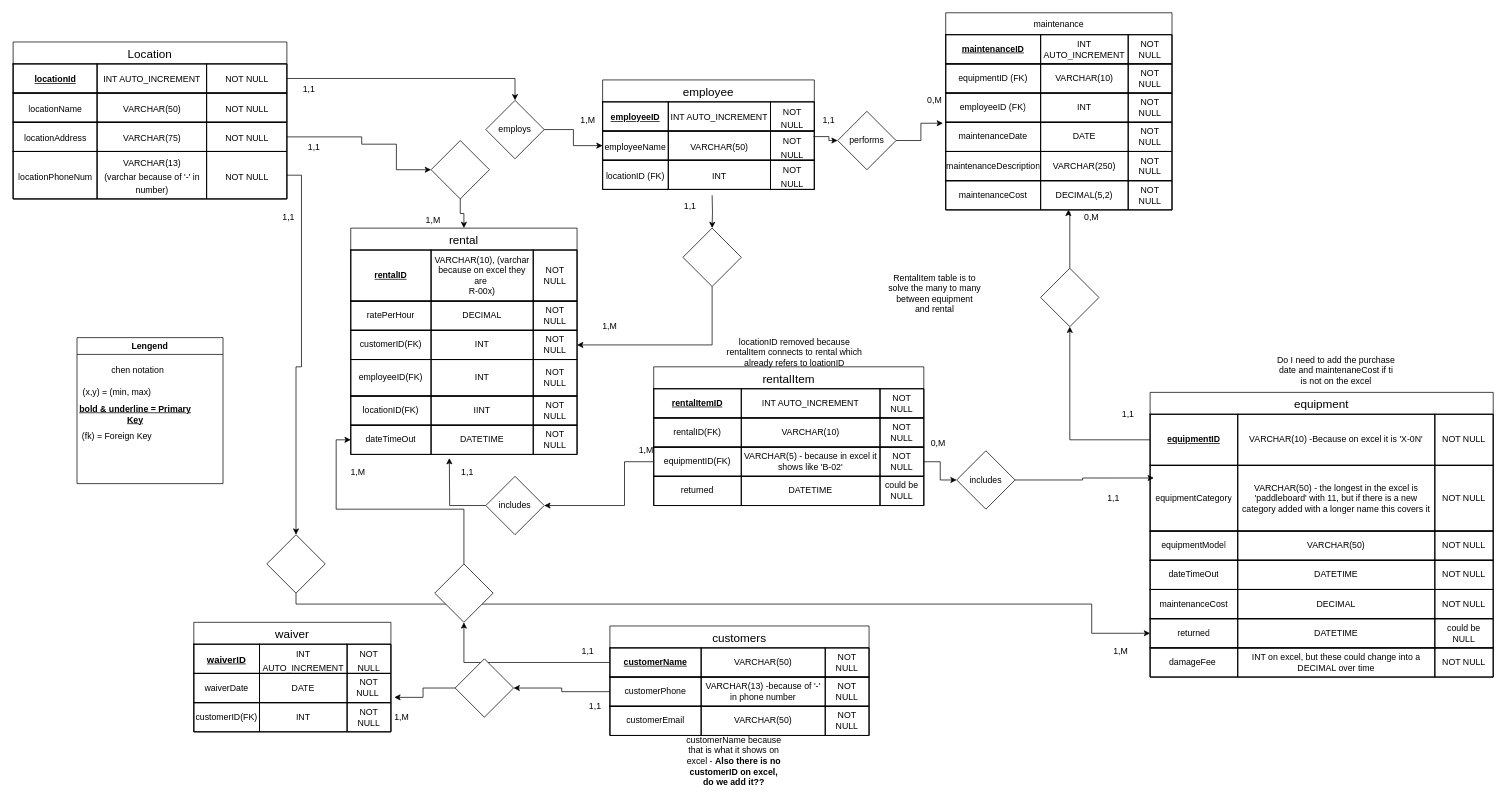
Some shapes in this 1506 by 800 pixel diagram are drawn without their labels. Here are the shapes that lost their labels. From the top down, the box of each, then its label:
(430, 140, 489, 199): Hosts
(682, 227, 741, 287): checks out
(1040, 268, 1099, 327): recieves
(266, 534, 325, 593): has
(434, 563, 493, 622): rent
(454, 658, 514, 717): sign
